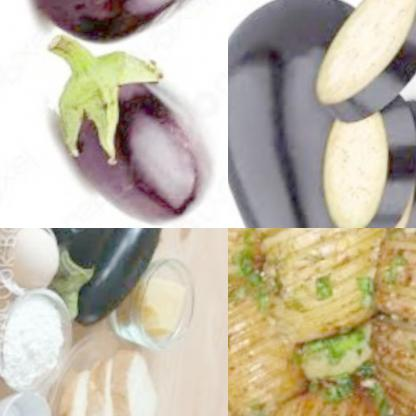eggplant: (228, 0, 416, 228), (23, 37, 228, 228), (315, 0, 416, 228), (75, 228, 227, 326), (60, 228, 146, 304)
potato: (233, 228, 391, 396), (361, 228, 416, 416), (228, 288, 289, 412), (228, 396, 401, 416)
